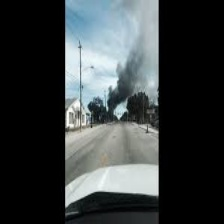smoke: (106, 36, 148, 114)
